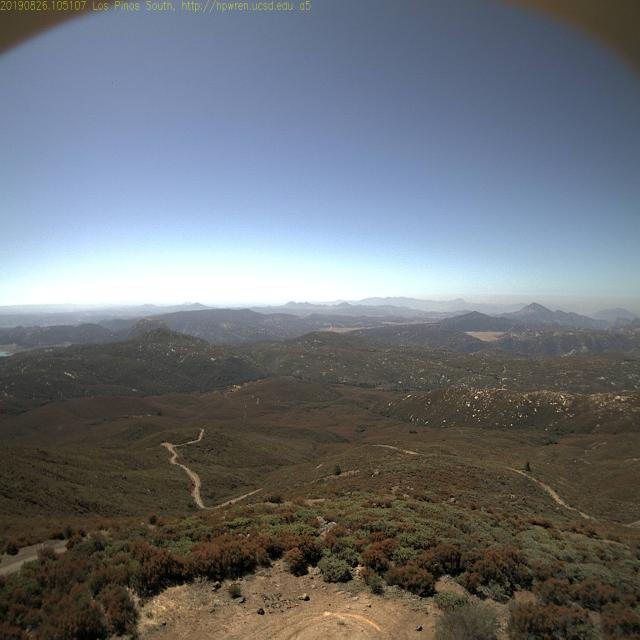smoke: (387, 305, 397, 318)
